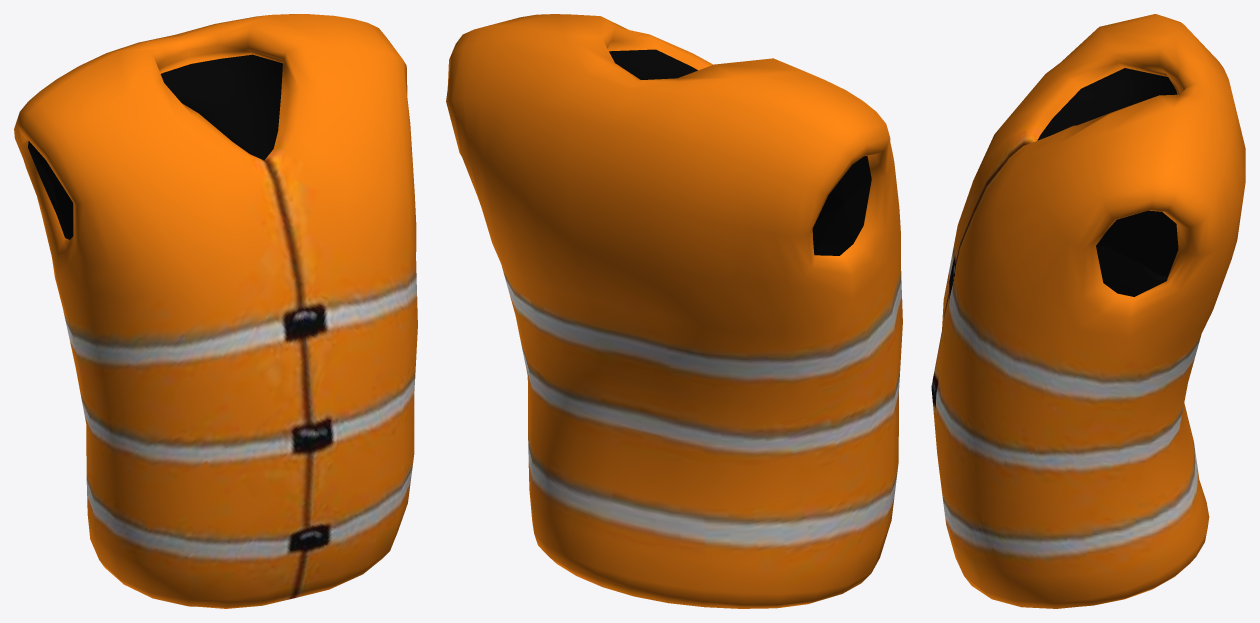
File: lifevest.fbx
3 renders of one model, left to right at view 1: azimuth 30°, elevation 25°; view 2: azimuth 150°, elevation 25°; view 3: azimuth 270°, elevation 25°, orthographic. The views are drawn at different scales.
Parts seen in each view (by area): view 1: Group_006; view 2: Group_006; view 3: Group_006.
Boxes of the visible parts, x1,y1,x2,y2 form: Group_006: (14,14,417,608); Group_006: (446,14,902,608); Group_006: (931,14,1245,608).
Size of the model in its own units: 10.09 by 13.05 by 7.57.
Materials: 1 (1 with a texture image).
